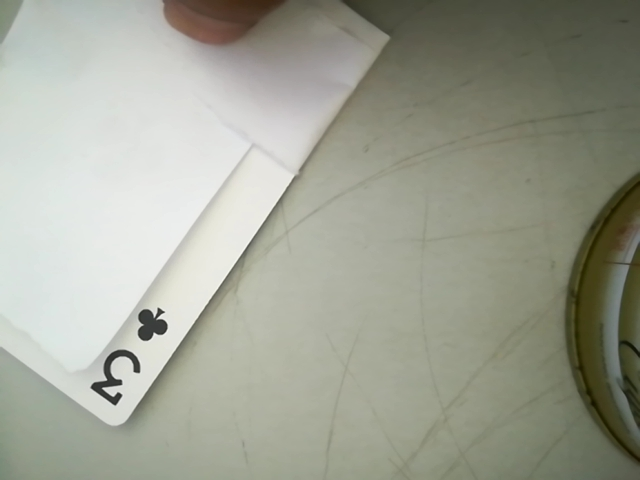mh 3: (79, 294, 172, 427)
